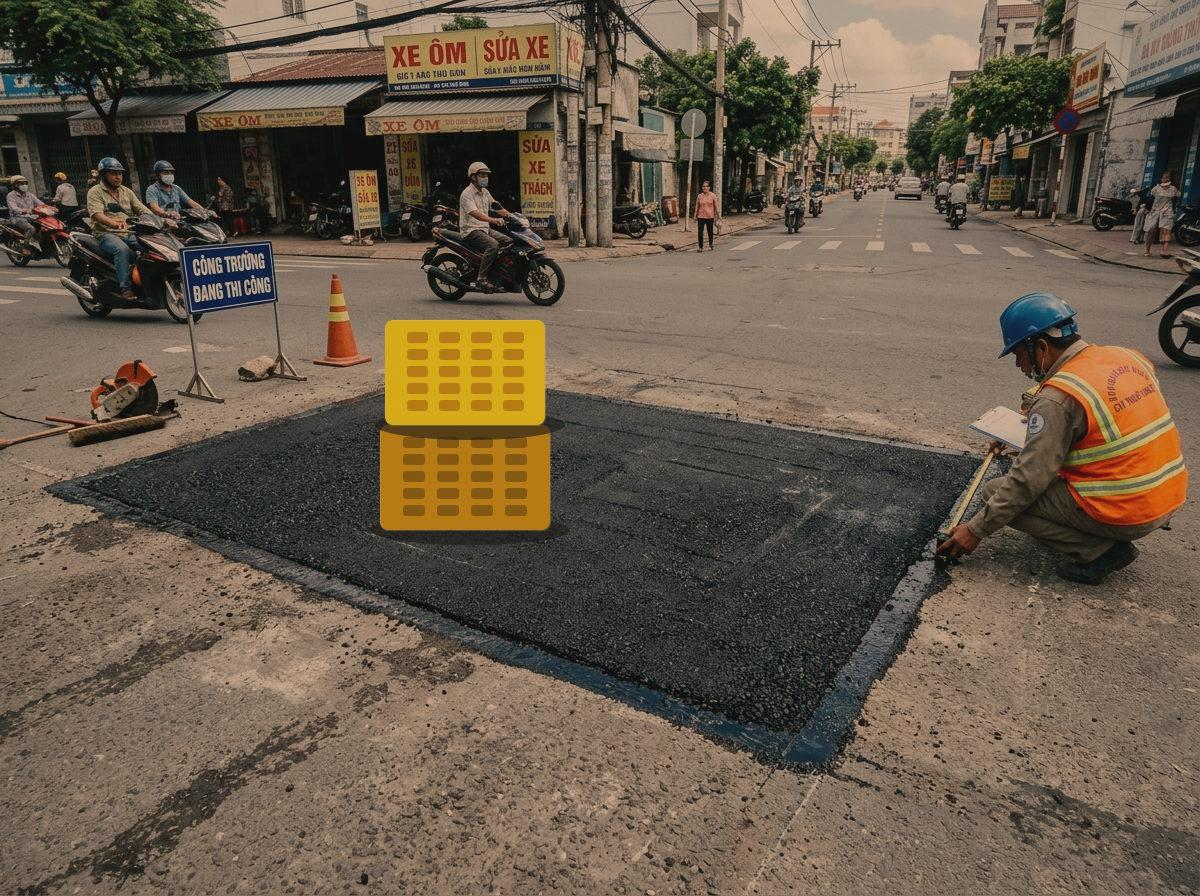ROAD_OBSTACLE: (375, 315, 555, 535)
